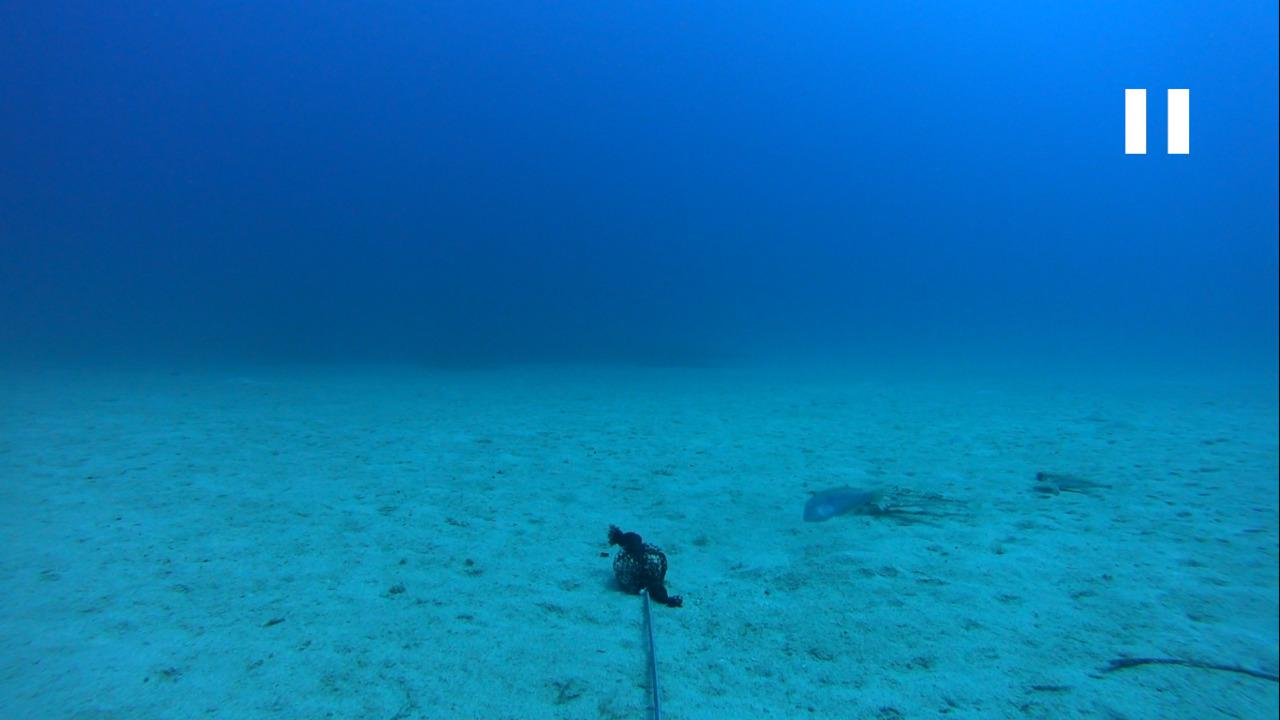dactylopterus: (853, 480, 972, 523), (1020, 463, 1103, 497)
raor: (796, 477, 869, 524)
